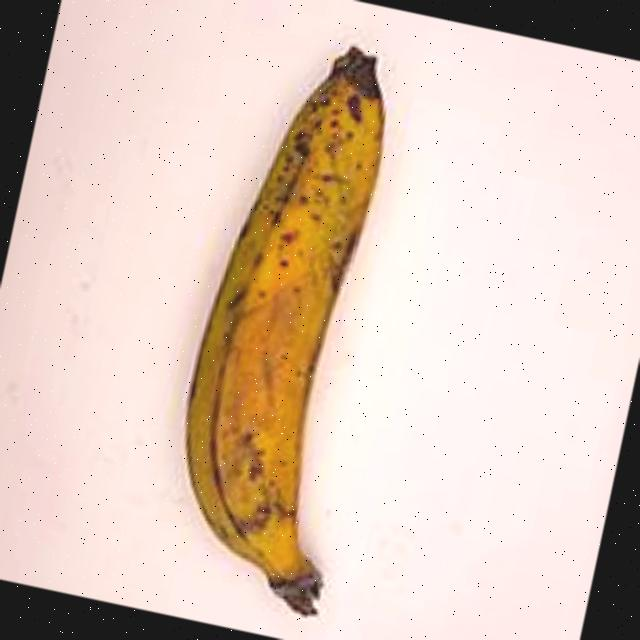Overripe: (58, 0, 490, 627)
